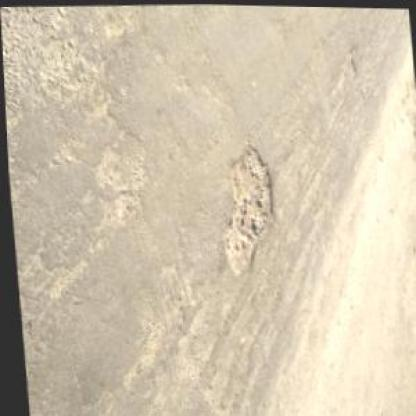pothole: (214, 143, 278, 279), (332, 46, 361, 87)
